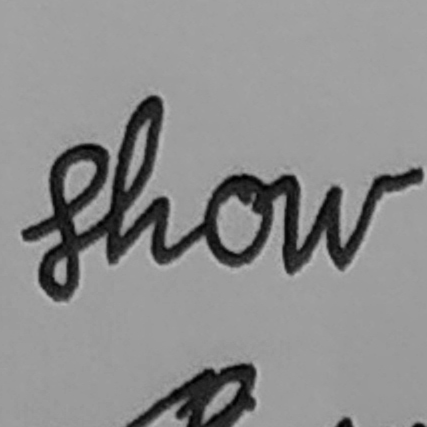h: (101, 88, 183, 271)
o: (197, 169, 278, 271)
s: (18, 136, 113, 306)
w: (279, 161, 390, 279)
